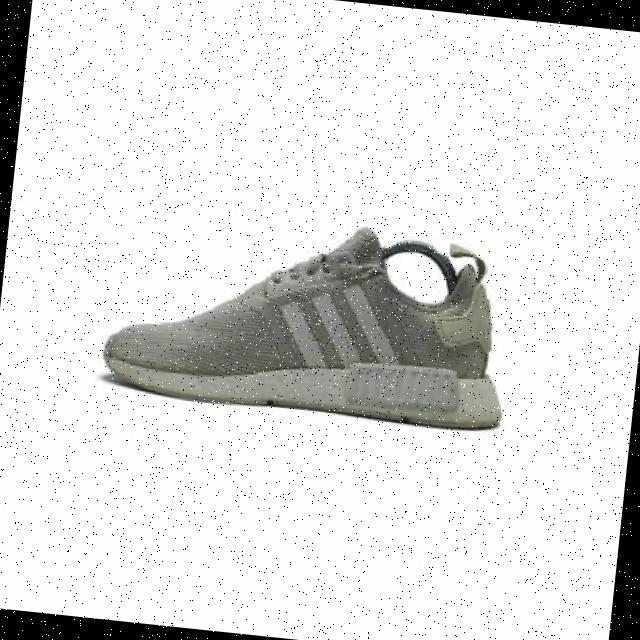Adidas: (266, 268, 411, 389)
